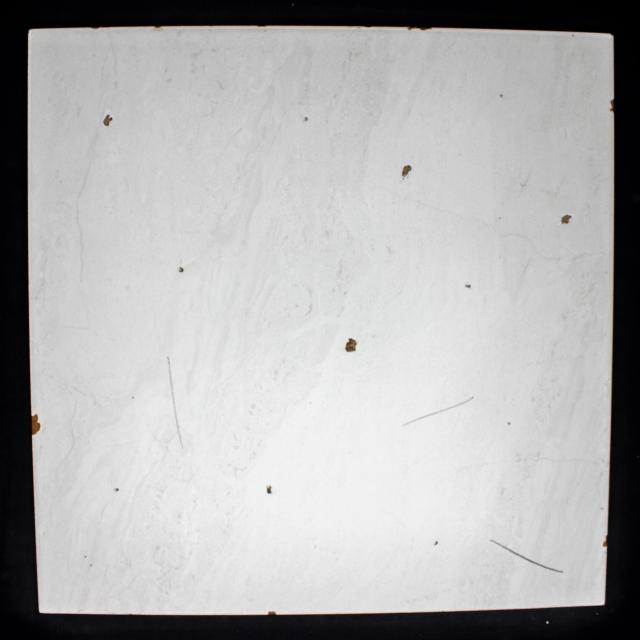edge-chipping: (30, 413, 42, 436), (406, 26, 433, 31), (602, 534, 608, 548), (268, 610, 276, 616)
hole: (344, 338, 358, 353), (102, 112, 114, 128), (400, 164, 412, 178), (560, 214, 572, 225), (608, 98, 614, 113), (266, 485, 272, 495), (178, 267, 184, 273), (464, 284, 472, 288)
line: (489, 538, 564, 574), (402, 395, 475, 427), (166, 356, 184, 450)
